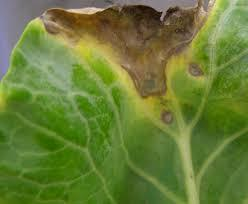Bok-Choy-Diseased: (0, 6, 248, 186)
